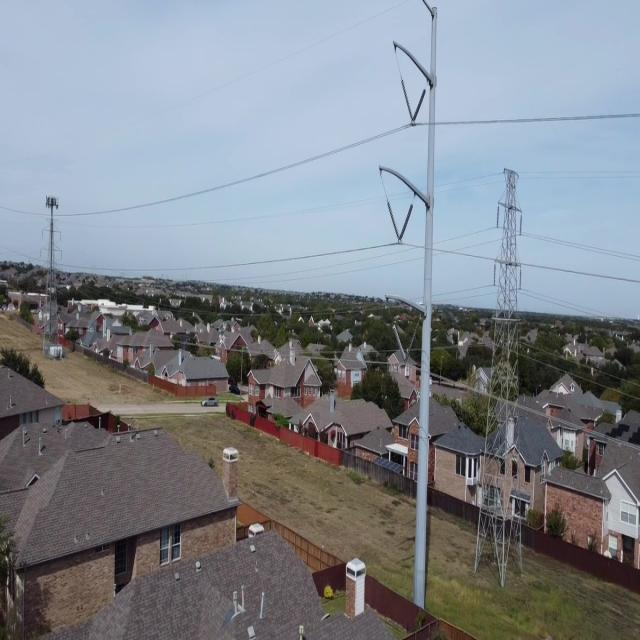杆塔: (468, 153, 534, 592), (37, 188, 66, 360)
正常绝缘子: (385, 310, 413, 374), (395, 321, 422, 381), (395, 61, 418, 131), (380, 189, 405, 249), (393, 198, 419, 254), (405, 80, 430, 137), (516, 260, 524, 293), (517, 208, 524, 242), (495, 202, 502, 232), (491, 260, 498, 287), (59, 231, 62, 242), (60, 250, 62, 262), (41, 229, 43, 240), (40, 247, 41, 258)
